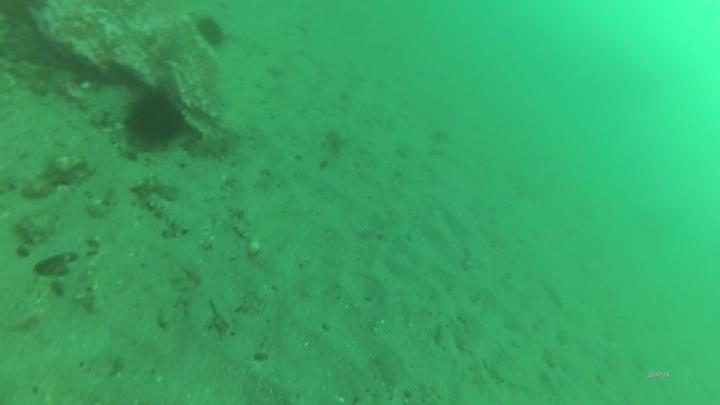echinus: (123, 88, 186, 147), (196, 14, 227, 53)
holothurian: (183, 127, 243, 161), (148, 193, 190, 237), (131, 173, 183, 203)
